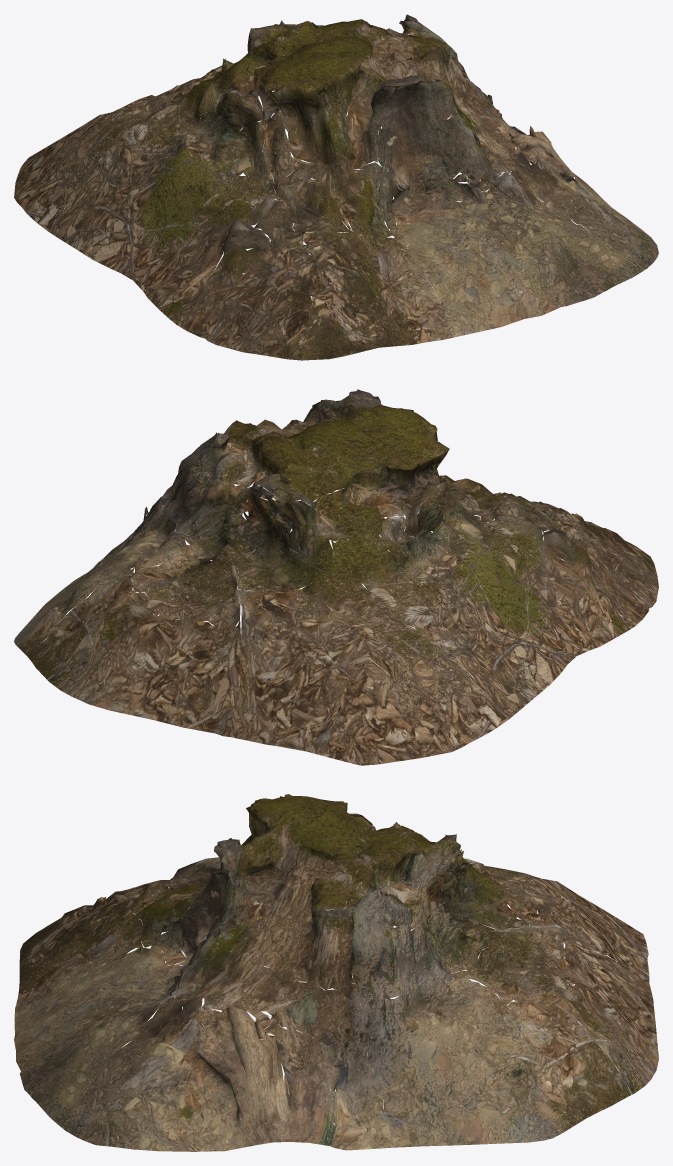
The model's file is tree_stump_01.fbx.
3 views of the same model, one above another, from view 1: azimuth 30°, elevation 25°; view 2: azimuth 150°, elevation 25°; view 3: azimuth 270°, elevation 25° (orthographic). The views are drawn at different scales.
Visible parts, largest first — view 1: tree_stump_01; view 2: tree_stump_01; view 3: tree_stump_01.
Boxes of the visible parts, box(x1,y1,x2,y2) form: tree_stump_01: box(14, 14, 658, 360); tree_stump_01: box(14, 389, 658, 765); tree_stump_01: box(14, 794, 658, 1151).
Bounding box in the file's own units: 142 × 57.22 × 159.
1 material, 1 textured.
